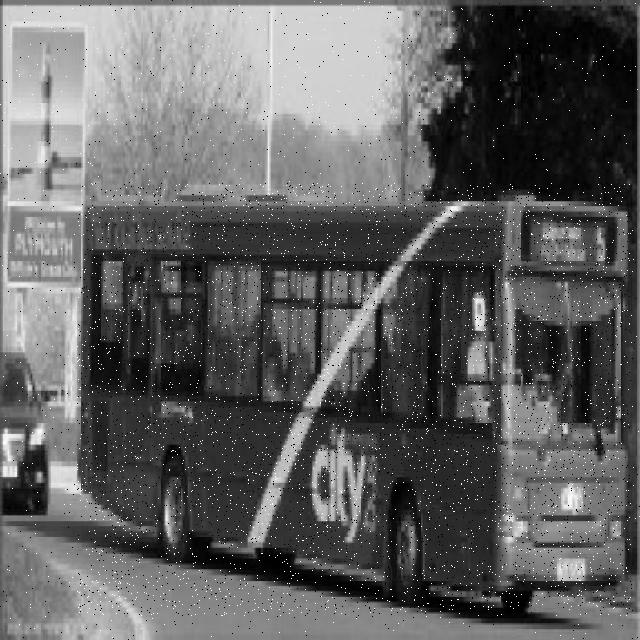Bus: (77, 183, 631, 616)
